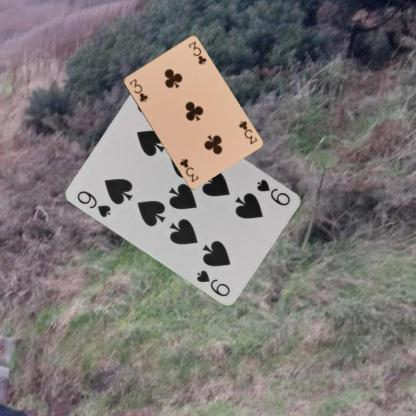3c: (127, 76, 149, 103), (236, 118, 258, 145)
9s: (254, 177, 292, 208), (74, 188, 112, 219)
